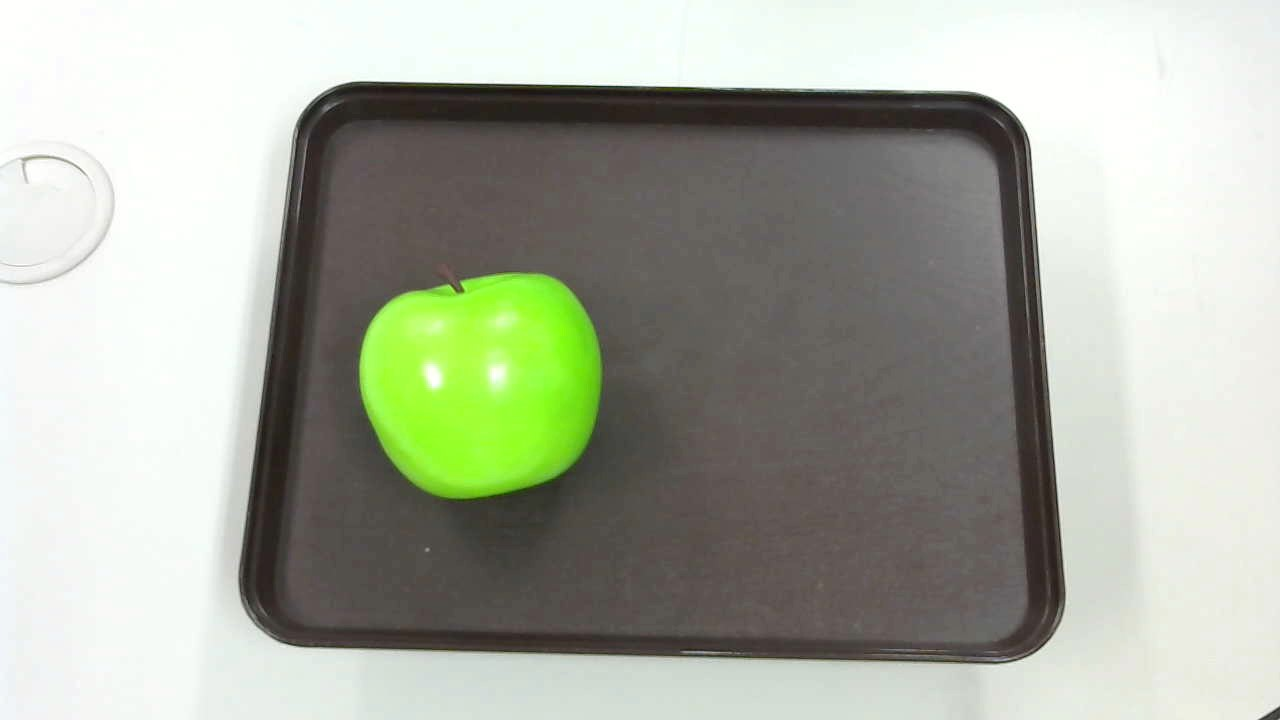green apple: (342, 256, 615, 503)
